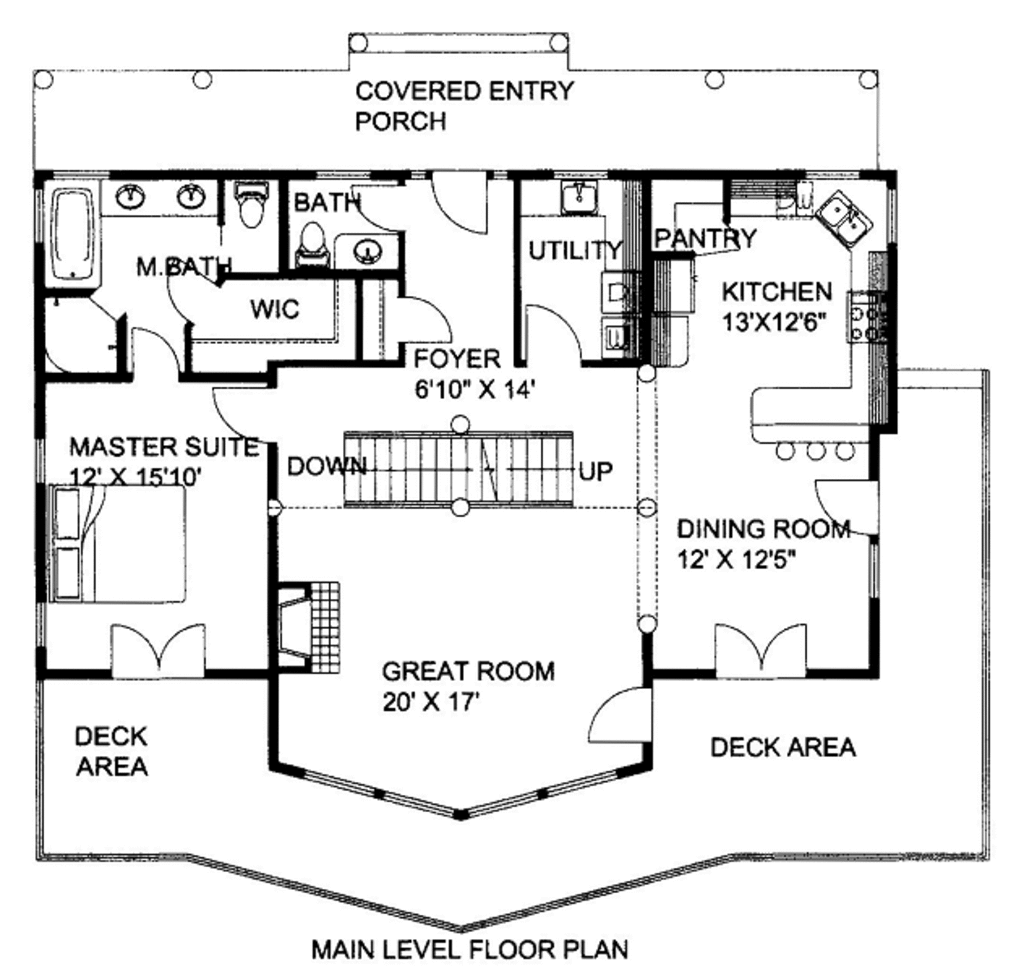bed: (46, 480, 208, 603)
door: (102, 614, 220, 681), (709, 621, 818, 690), (580, 677, 675, 755), (805, 474, 890, 543), (205, 380, 283, 445), (427, 168, 496, 239), (520, 299, 587, 367), (150, 258, 224, 318), (125, 321, 189, 384), (346, 180, 417, 233), (396, 295, 456, 345)
kitchen_bar: (739, 280, 902, 467)
large_sink: (228, 177, 278, 242), (286, 214, 334, 274)
sink: (552, 175, 612, 218)
small_sink: (92, 183, 221, 218), (328, 231, 403, 280)
stairs: (328, 412, 611, 524)
tub: (37, 173, 102, 287)
twin_sink: (808, 183, 887, 261)
